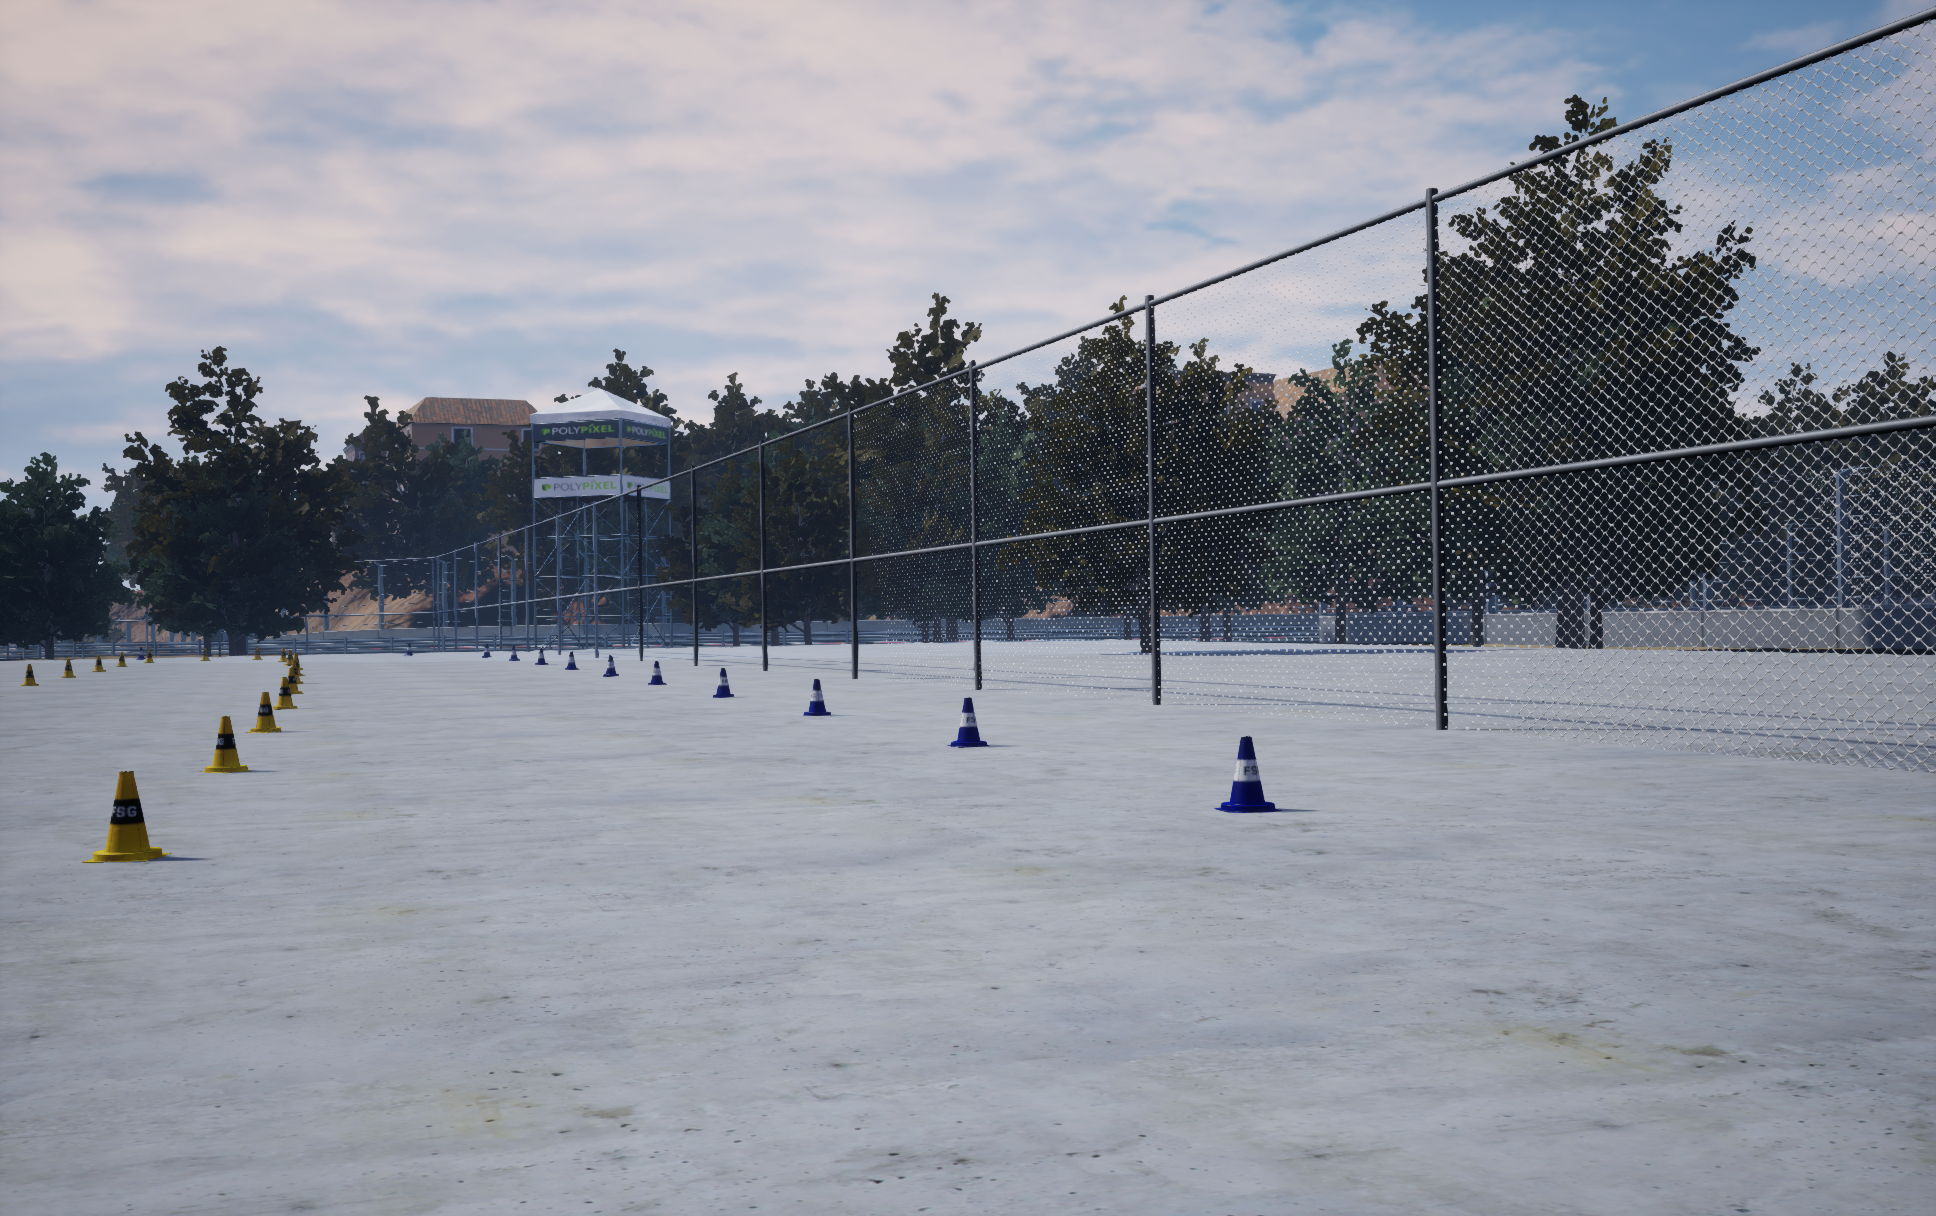blue: (83, 771, 171, 862), (200, 716, 249, 772), (245, 692, 282, 733), (273, 677, 297, 709), (289, 668, 303, 693), (21, 664, 38, 685), (291, 661, 303, 684), (293, 656, 305, 675)
yellow: (1215, 735, 1280, 813), (947, 698, 989, 747), (803, 679, 829, 714), (713, 668, 733, 698), (649, 661, 665, 684), (602, 656, 618, 677), (565, 651, 579, 670)
